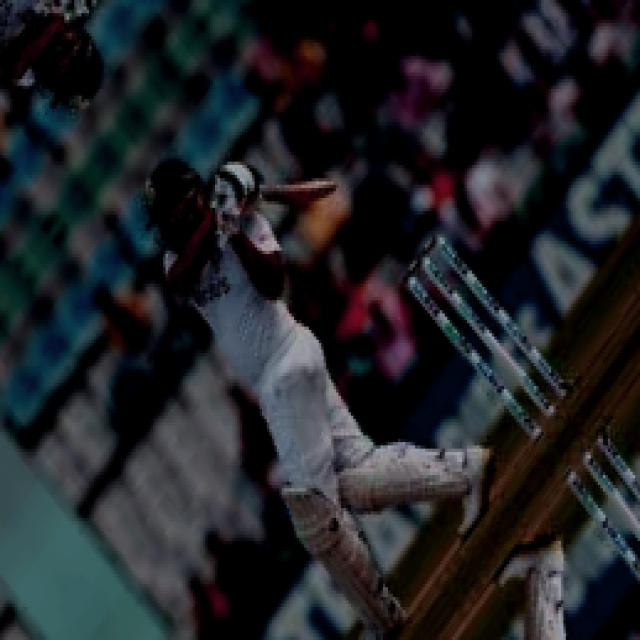toe: (323, 176, 343, 205)
